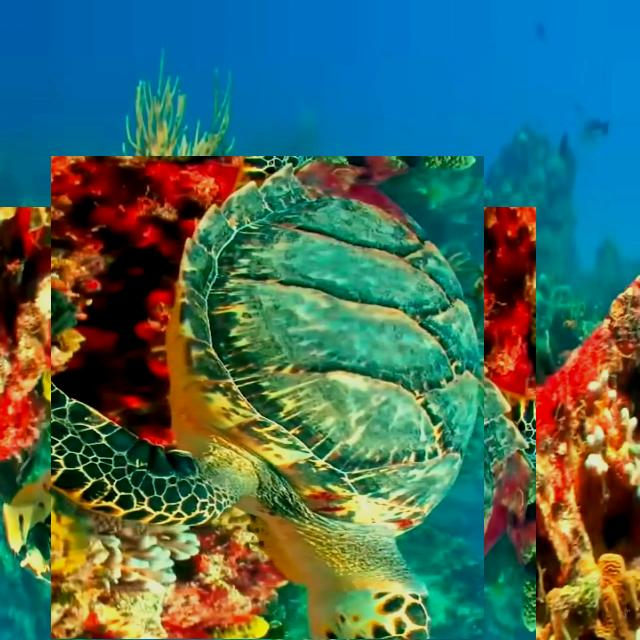Sea turtle: (25, 181, 510, 640)
